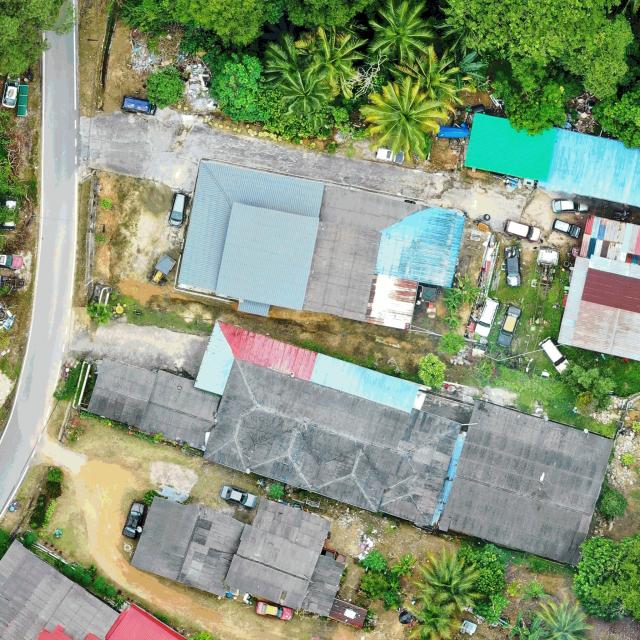0: (358, 79, 442, 163), (300, 25, 368, 96), (410, 548, 482, 614), (365, 0, 434, 65), (530, 594, 594, 640), (278, 66, 332, 115), (407, 593, 462, 640)
banana_tree2: (441, 51, 487, 88), (506, 611, 548, 640), (445, 273, 476, 303), (462, 272, 486, 304), (391, 552, 417, 578), (521, 577, 549, 600), (442, 303, 458, 325)
tree: (446, 0, 632, 99), (572, 532, 640, 624), (491, 59, 570, 138), (210, 53, 275, 123), (170, 0, 265, 45), (591, 84, 640, 150), (457, 544, 509, 598), (144, 64, 186, 110), (417, 352, 448, 389), (597, 488, 629, 517), (437, 331, 467, 355), (85, 300, 113, 325)
